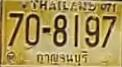0: (25, 13, 39, 45)
1: (73, 14, 78, 46)
7: (8, 12, 23, 45), (101, 15, 116, 47)
8: (52, 14, 66, 46)
9: (84, 15, 99, 46)
KRI: (33, 49, 92, 67)
